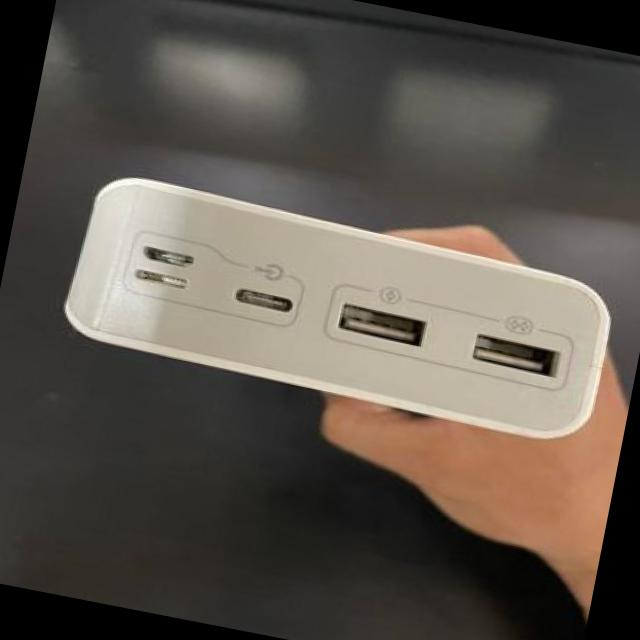portable-charger: (49, 162, 634, 456)
